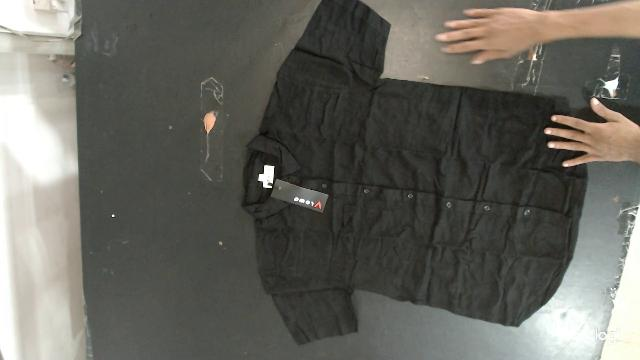new-garment: (242, 0, 587, 344)
